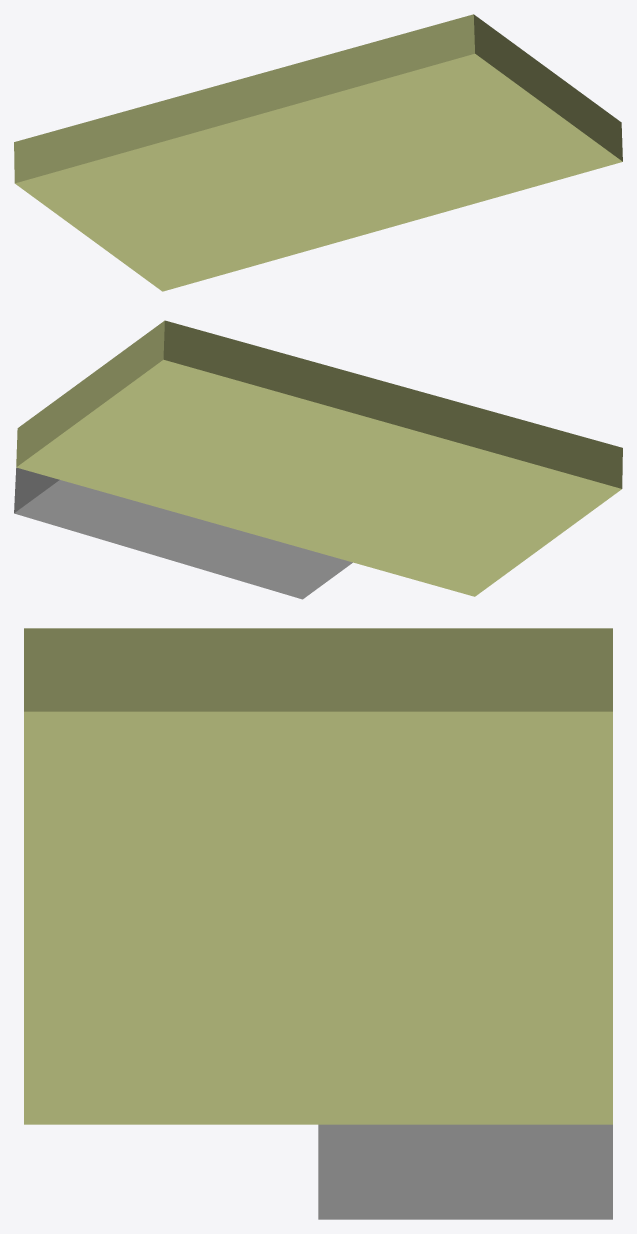
3 renders of one model, top to bottom at view 1: azimuth 30°, elevation 25°; view 2: azimuth 150°, elevation 25°; view 3: azimuth 270°, elevation 25°, orthographic. The views are drawn at different scales.
Parts seen in each view (by area): view 1: 0_2_3_3_3_1_3_0_3_1; view 2: 0_2_3_3_3_1_3_0_3_1; view 3: 0_2_3_3_3_1_3_0_3_1.
Boxes of the visible parts, x1,y1,x2,y2 form: 0_2_3_3_3_1_3_0_3_1: [14, 14, 622, 291]; 0_2_3_3_3_1_3_0_3_1: [14, 320, 622, 599]; 0_2_3_3_3_1_3_0_3_1: [24, 628, 612, 1219].
Size of the model in its own units: 10.86 by 2.29 by 6.
